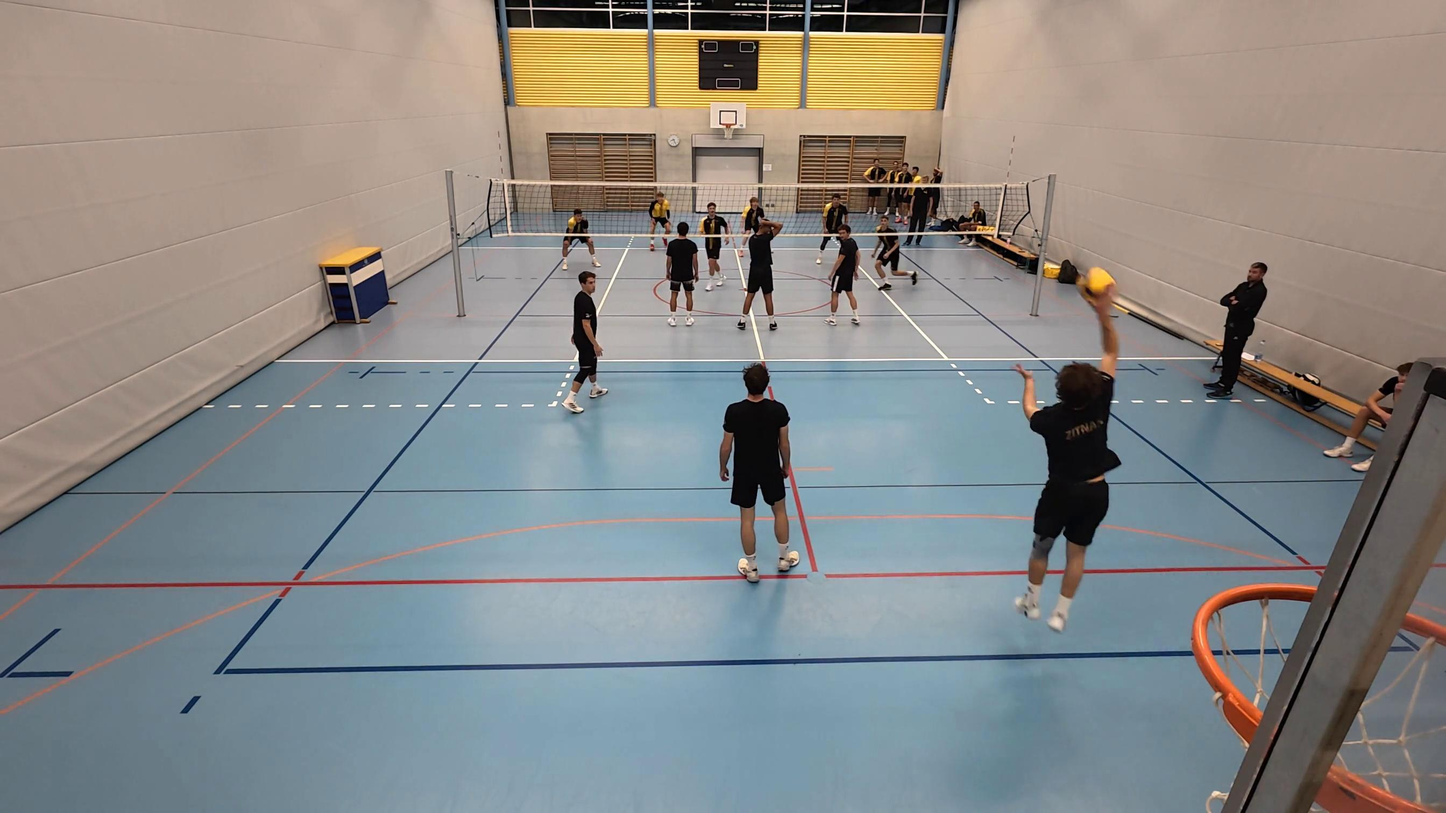Player: (720, 363, 800, 582), (564, 271, 607, 413), (736, 215, 784, 332), (660, 220, 700, 326), (825, 220, 863, 326), (870, 217, 910, 291), (700, 201, 731, 290), (561, 206, 598, 272), (813, 192, 847, 262), (738, 192, 765, 253), (646, 190, 671, 253)
Serve: (1011, 280, 1126, 635)
ball: (1075, 265, 1116, 297)
